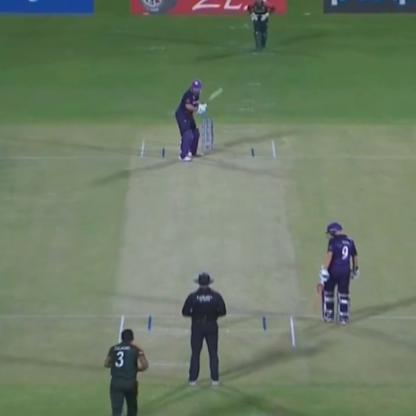bat: (198, 78, 230, 110), (308, 275, 326, 317)
pitch: (106, 133, 311, 356)
